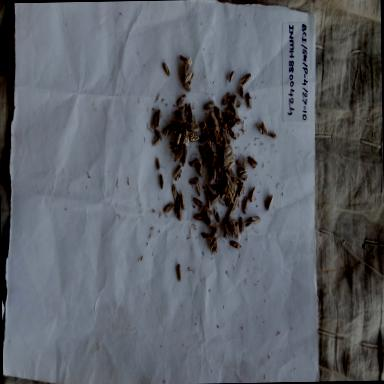pbw: (247, 154, 259, 171), (173, 148, 185, 164), (198, 130, 210, 146), (240, 72, 252, 88), (184, 56, 194, 75), (186, 101, 194, 124), (206, 164, 214, 187), (162, 60, 172, 78), (210, 236, 220, 254), (214, 106, 224, 124), (164, 200, 176, 215), (150, 110, 158, 132), (224, 106, 235, 122), (168, 123, 184, 134), (176, 262, 184, 284), (266, 193, 275, 212), (198, 144, 208, 161), (212, 136, 224, 150), (176, 94, 188, 108), (162, 123, 171, 141), (227, 204, 237, 220), (222, 91, 232, 107), (204, 204, 212, 224), (178, 192, 186, 212), (196, 158, 204, 178), (205, 182, 215, 198), (249, 184, 257, 204), (224, 152, 236, 165), (244, 218, 256, 231), (203, 98, 216, 110), (183, 70, 194, 84), (181, 147, 188, 168), (184, 124, 190, 148), (188, 176, 200, 188), (202, 120, 210, 138), (174, 164, 182, 182), (230, 239, 242, 251), (238, 181, 246, 199), (228, 179, 236, 197), (230, 100, 238, 118), (219, 182, 228, 198), (225, 189, 232, 209), (246, 91, 253, 111), (211, 193, 221, 207), (172, 127, 186, 137), (207, 124, 221, 134), (178, 201, 184, 224), (172, 184, 180, 201), (210, 110, 218, 127), (174, 195, 180, 217), (231, 176, 242, 188), (208, 220, 219, 232), (230, 118, 240, 131), (249, 215, 262, 225), (210, 154, 218, 170), (256, 121, 264, 137), (210, 228, 218, 244), (208, 140, 216, 156), (232, 191, 240, 207), (262, 120, 270, 136), (156, 107, 162, 128), (159, 173, 166, 191), (222, 218, 229, 236), (228, 128, 237, 142), (201, 231, 212, 242), (175, 105, 186, 116), (239, 216, 245, 236), (168, 142, 180, 152), (222, 146, 232, 158), (189, 123, 201, 133), (193, 196, 203, 208), (182, 82, 192, 94), (189, 134, 201, 144), (193, 212, 205, 222), (243, 196, 249, 216), (239, 84, 246, 101), (152, 136, 161, 149), (174, 132, 182, 146), (228, 70, 236, 84), (205, 144, 212, 160), (178, 53, 188, 64), (172, 116, 183, 126), (214, 207, 220, 225), (231, 218, 237, 236), (234, 222, 240, 240), (227, 160, 236, 172), (155, 129, 163, 142), (224, 131, 232, 144), (222, 192, 232, 202), (206, 190, 211, 210), (268, 132, 278, 142), (238, 174, 249, 183), (225, 170, 232, 184), (156, 156, 162, 172), (196, 183, 202, 199), (212, 130, 218, 146), (218, 162, 223, 180), (189, 158, 198, 168), (222, 226, 228, 241), (201, 160, 212, 168), (217, 146, 222, 162), (210, 184, 220, 192), (244, 156, 248, 174), (218, 132, 224, 144), (224, 113, 228, 130), (212, 166, 216, 182), (237, 168, 245, 176)
